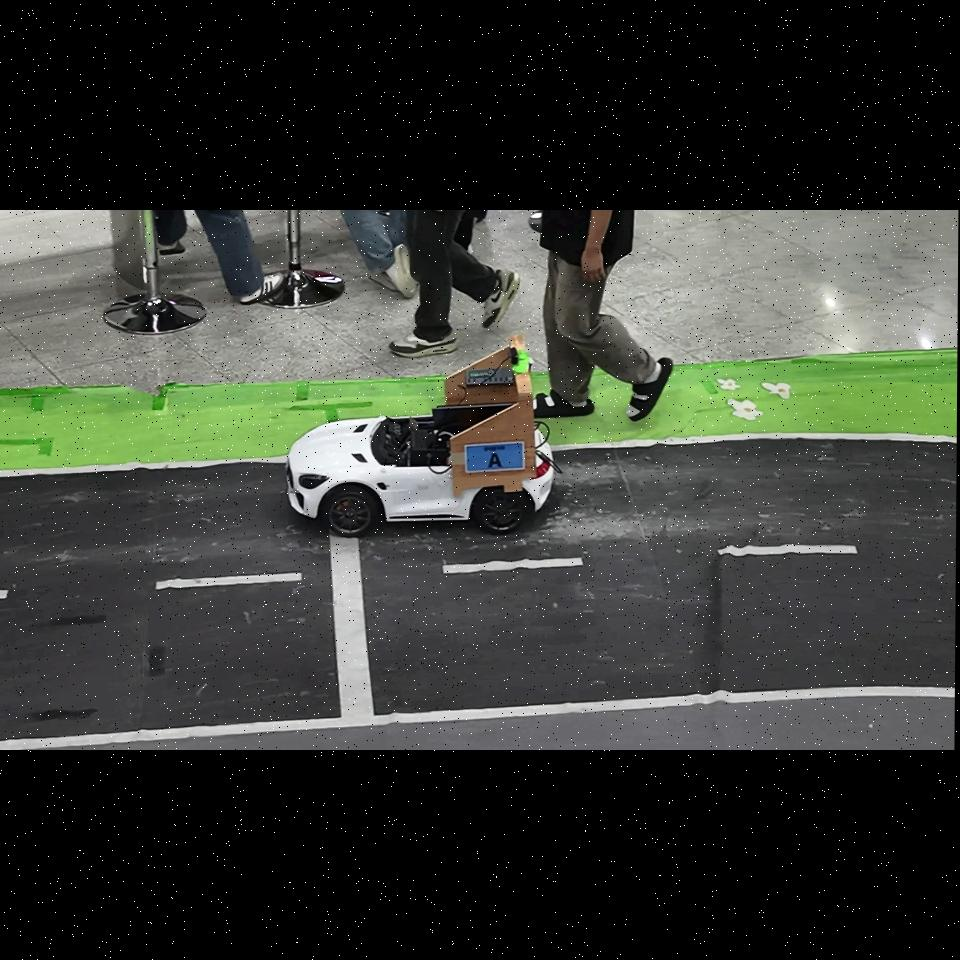broken_line: (155, 572, 302, 590), (442, 557, 583, 574), (717, 544, 857, 556), (0, 589, 8, 599)
